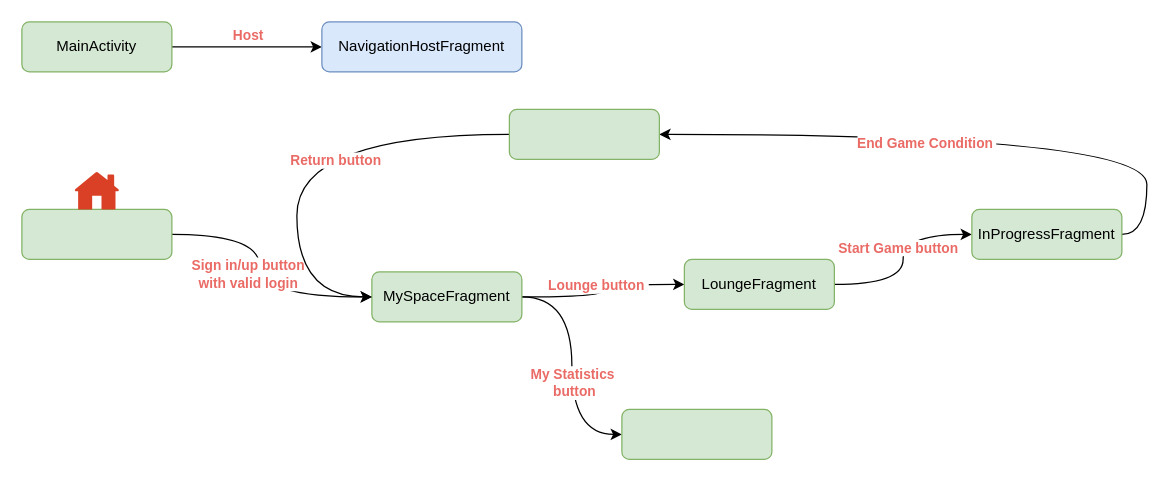
This 1169x481 diagram has some shape labels left out. The shapes that lost their labels are listed below. From the top down, each one's centre as x and y in pixels, then its label:
At (583,133): "ResultFragment".
At (96,233): "LoginFragment".
At (696,433): "StatFragment".
